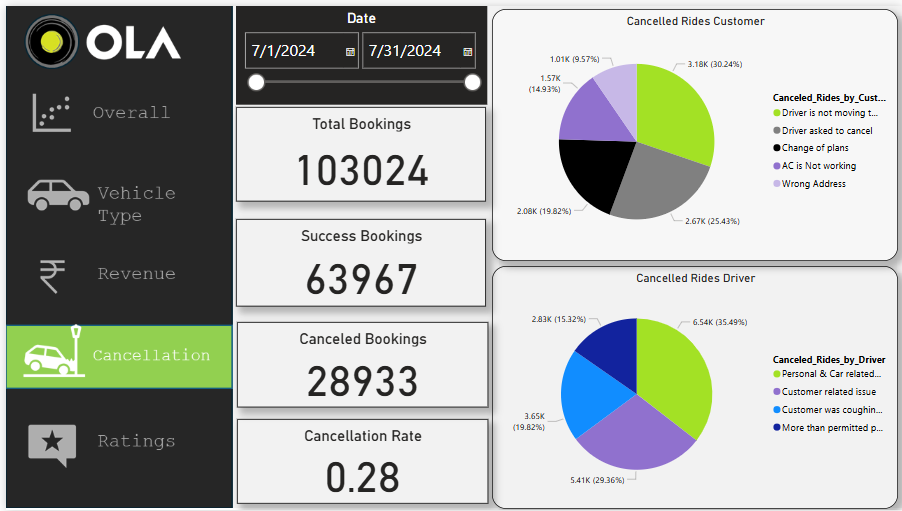

What the dashboard file says about the page in this screenshot:
{"tool":"powerbi","page":{"name":"Cancellation","canvas":[1280,720],"ordinal":3},"visuals":[{"type":"actionButton","box":[0,577.4,324,90.7],"z":0},{"type":"actionButton","box":[0,233.3,324,90.7],"z":1000},{"type":"actionButton","box":[0,347,324,90.7],"z":2000},{"type":"actionButton","box":[0,103.7,324,90.7],"z":3000},{"type":"pieChart","title":" Cancelled Rides Customer","fields":{"Category":["July.Canceled_Rides_by_Customer"],"Y":["CountNonNull(July.Canceled_Rides_by_Customer)"]},"box":[694.1,4.3,580.3,360],"z":4000},{"type":"pieChart","title":" Cancelled Rides Driver","fields":{"Category":["July.Canceled_Rides_by_Driver"],"Y":["CountNonNull(July.Canceled_Rides_by_Driver)"]},"box":[694.1,371.5,580.3,347],"z":5000},{"type":"slicer","title":"Date","fields":{"Values":["July.Date"]},"box":[328.3,0,358.6,141.1],"z":6000},{"type":"card","title":"Total Bookings","fields":{"Values":["Count(July.Booking_ID)"]},"box":[328.3,144,357.1,135.4],"z":7000},{"type":"card","title":"Success Bookings","fields":{"Values":["Count(July.Booking_ID)"]},"box":[328.3,303.8,357.1,125.3],"z":8000},{"type":"card","title":" Canceled Bookings","fields":{"Values":["Count(July.Booking_ID)"]},"box":[329.8,450.7,358.6,122.4],"z":9000},{"type":"card","title":"Cancellation Rate ","fields":{"Values":["July.CanceledPercentage"]},"box":[329.8,590.4,358.6,121],"z":10000}]}

Visuals, with their boxes in screenshot pixels (x1, y1, x2, y2), scaled from the page's 1280x720 canvas onto the 902x511 screenshot:
actionButton: left=0, top=410, right=228, bottom=474
actionButton: left=0, top=166, right=228, bottom=230
actionButton: left=0, top=246, right=228, bottom=311
actionButton: left=0, top=74, right=228, bottom=138
" Cancelled Rides Customer" pieChart: left=489, top=3, right=898, bottom=259
" Cancelled Rides Driver" pieChart: left=489, top=264, right=898, bottom=510
"Date" slicer: left=231, top=0, right=484, bottom=100
"Total Bookings" card: left=231, top=102, right=483, bottom=198
"Success Bookings" card: left=231, top=216, right=483, bottom=305
" Canceled Bookings" card: left=232, top=320, right=485, bottom=407
"Cancellation Rate " card: left=232, top=419, right=485, bottom=505
